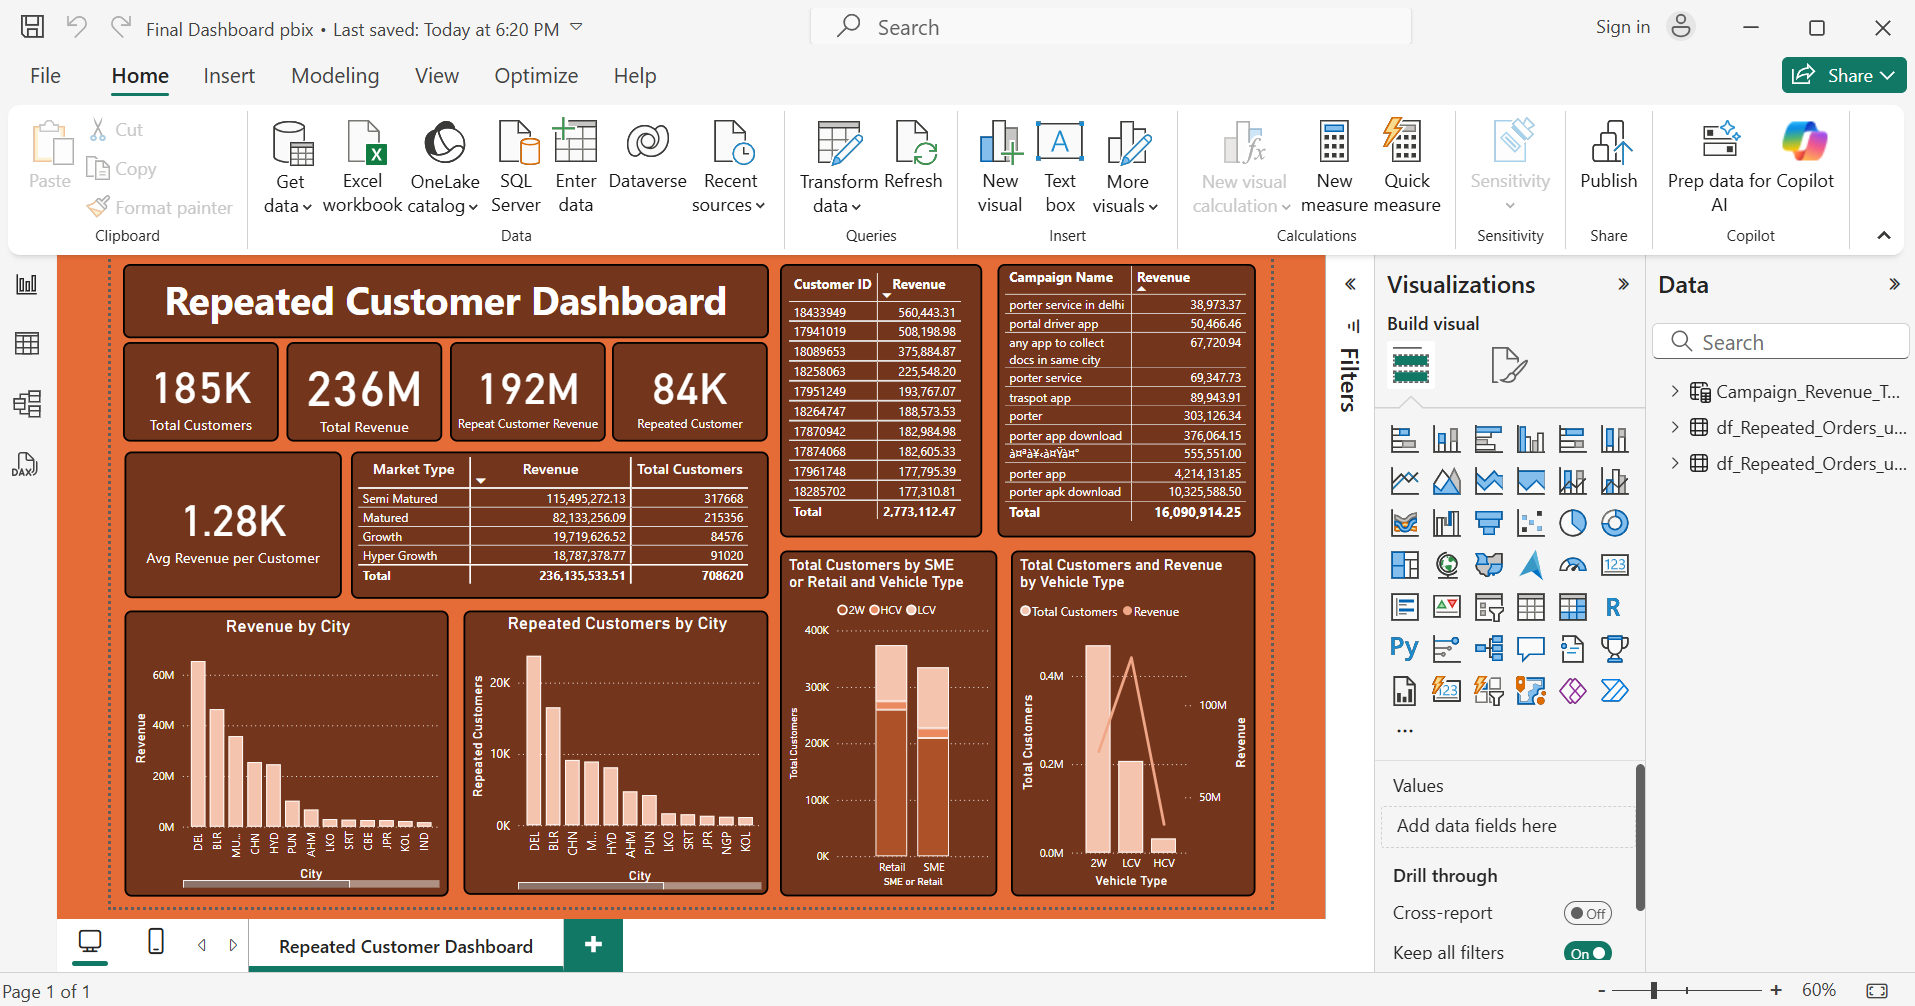

This screenshot's page, from the dashboard's own definition file:
{"tool":"powerbi","page":{"name":"Repeated Customer Dashboard","canvas":[1280,720],"ordinal":0},"visuals":[{"type":"lineClusteredColumnComboChart","fields":{"Category":["df_Repeated_Orders_unique.VEHICLE_TYPE"],"Y":["CountNonNull(df_Repeated_Orders_unique.CUSTOMER_ID)"],"Y2":["Sum(df_Repeated_Orders_unique.CUSTOMER_FARE)"]},"box":[993.3,326.7,270,381.7],"z":0},{"type":"lineClusteredColumnComboChart","fields":{"Category":["df_Repeated_Orders_unique.GEO_REGION_CITY"],"Y":["Sum(df_Repeated_Orders_unique.CUSTOMER_FARE)"]},"box":[15,392.1,357.9,315.7],"z":1000},{"type":"columnChart","fields":{"Category":["df_Repeated_Orders_unique.FREQ_SME_RETAILS"],"Y":["CountNonNull(df_Repeated_Orders_unique.CUSTOMER_ID)"],"Series":["df_Repeated_Orders_unique.VEHICLE_TYPE"]},"box":[738.3,326.7,240,381.7],"z":2000},{"type":"tableEx","fields":{"Values":["df_Repeated_Orders_unique.MARKET_TYPE","Sum(df_Repeated_Orders_unique.CUSTOMER_FARE)","CountNonNull(df_Repeated_Orders_unique.CUSTOMER_ID)"]},"box":[265.7,217.1,461.4,162.9],"z":3000},{"type":"clusteredColumnChart","fields":{"Category":["df_Repeated_Orders_unique.GEO_REGION_CITY"],"Y":["df_Repeated_Orders_unique.Repeated_Customer_Count"]},"box":[390,392.1,336.4,314.3],"z":4000},{"type":"pivotTable","fields":{"Rows":["df_Repeated_Orders_unique.CUSTOMER_ID"],"Values":["Sum(df_Repeated_Orders_unique.CUSTOMER_FARE)"]},"box":[738.3,10,223.3,301.7],"z":5000},{"type":"card","fields":{"Values":["df_Repeated_Orders_unique.Total_Customers"]},"box":[14,96,172,110],"z":6000},{"type":"card","fields":{"Values":["df_Repeated_Orders_unique.Repeated_Customer_Count"]},"box":[554,96,172,110],"z":7000},{"type":"card","fields":{"Values":["df_Repeated_Orders_unique.Total_Revenue"]},"box":[194,96,172,110],"z":8000},{"type":"card","fields":{"Values":["df_Repeated_Orders_unique.Repeat_Customer_Revenue"]},"box":[374,96,172,110],"z":9000},{"type":"tableEx","fields":{"Values":["df_Repeated_Orders_unique_saved.CAMPAIGN_NAME","Sum(df_Repeated_Orders_unique_saved.total_revenue)"]},"box":[978.3,10,285,301.7],"z":10000},{"type":"textbox","box":[14,10,713,82],"z":11000},{"type":"card","fields":{"Values":["df_Repeated_Orders_unique.Avg_Revenue_Per_Customer"]},"box":[14.3,217.1,240,162.1],"z":12000}]}

Visuals, with their boxes on the page's 1280x720 design canvas (x1, y1, x2, y2). These are canvas units, not pixel positions in the 1915x1006 screenshot, which may show the page scaled, cropped or inside an application window:
lineClusteredColumnComboChart - df_Repeated_Orders_unique.VEHICLE_TYPE x CountNonNull(df_Repeated_Orders_unique.CUSTOMER_ID): [left=993, top=327, right=1263, bottom=708]
lineClusteredColumnComboChart - df_Repeated_Orders_unique.GEO_REGION_CITY x Sum(df_Repeated_Orders_unique.CUSTOMER_FARE): [left=15, top=392, right=373, bottom=708]
columnChart - df_Repeated_Orders_unique.FREQ_SME_RETAILS x CountNonNull(df_Repeated_Orders_unique.CUSTOMER_ID): [left=738, top=327, right=978, bottom=708]
tableEx - df_Repeated_Orders_unique.MARKET_TYPE x Sum(df_Repeated_Orders_unique.CUSTOMER_FARE): [left=266, top=217, right=727, bottom=380]
clusteredColumnChart - df_Repeated_Orders_unique.GEO_REGION_CITY x df_Repeated_Orders_unique.Repeated_Customer_Count: [left=390, top=392, right=726, bottom=706]
pivotTable - df_Repeated_Orders_unique.CUSTOMER_ID x Sum(df_Repeated_Orders_unique.CUSTOMER_FARE): [left=738, top=10, right=962, bottom=312]
card - df_Repeated_Orders_unique.Total_Customers: [left=14, top=96, right=186, bottom=206]
card - df_Repeated_Orders_unique.Repeated_Customer_Count: [left=554, top=96, right=726, bottom=206]
card - df_Repeated_Orders_unique.Total_Revenue: [left=194, top=96, right=366, bottom=206]
card - df_Repeated_Orders_unique.Repeat_Customer_Revenue: [left=374, top=96, right=546, bottom=206]
tableEx - df_Repeated_Orders_unique_saved.CAMPAIGN_NAME x Sum(df_Repeated_Orders_unique_saved.total_revenue): [left=978, top=10, right=1263, bottom=312]
textbox: [left=14, top=10, right=727, bottom=92]
card - df_Repeated_Orders_unique.Avg_Revenue_Per_Customer: [left=14, top=217, right=254, bottom=379]
